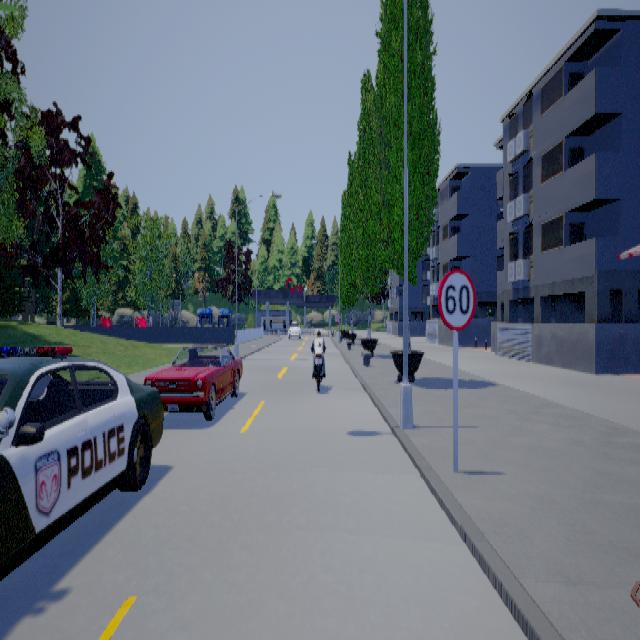traffic_sign: (437, 268, 475, 330), (334, 312, 339, 322)
vehicle: (0, 342, 165, 579), (142, 338, 245, 422)
